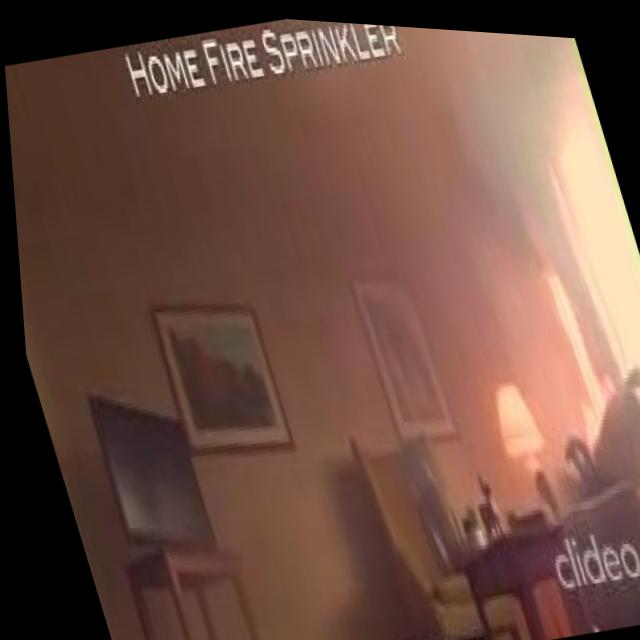fire: (531, 258, 610, 441)
